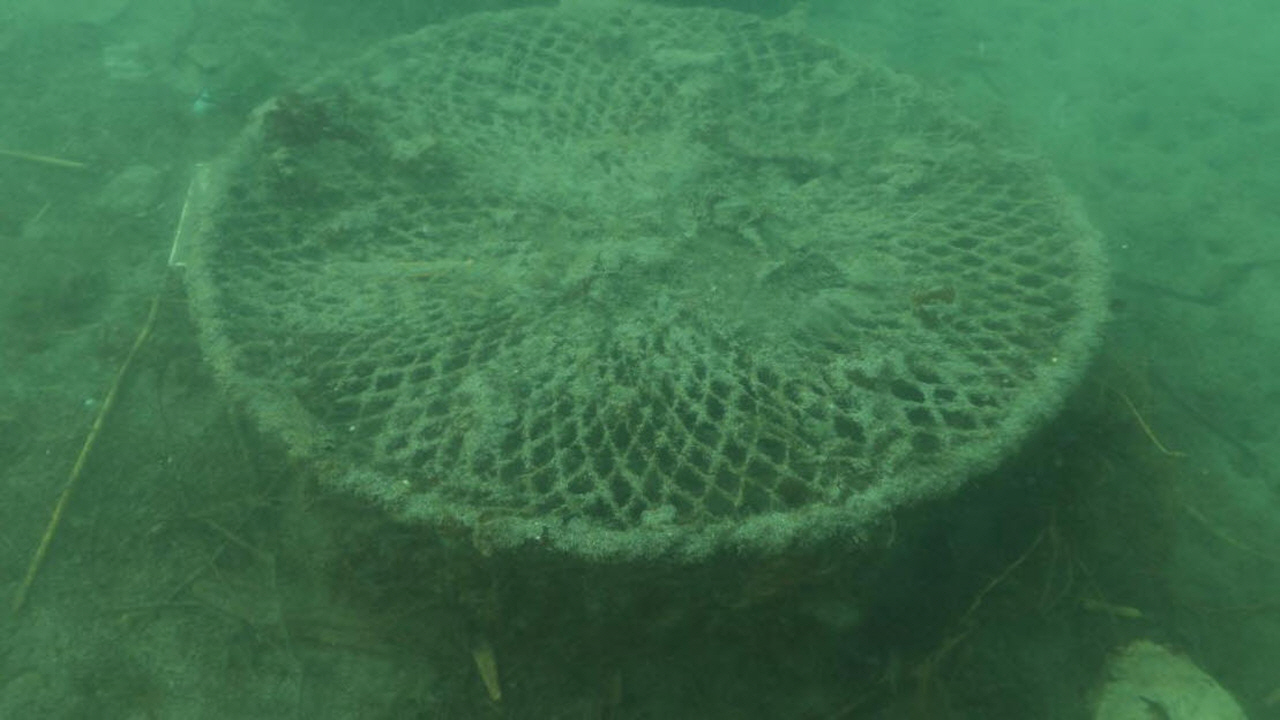circular fish trap: (185, 0, 1112, 561)
